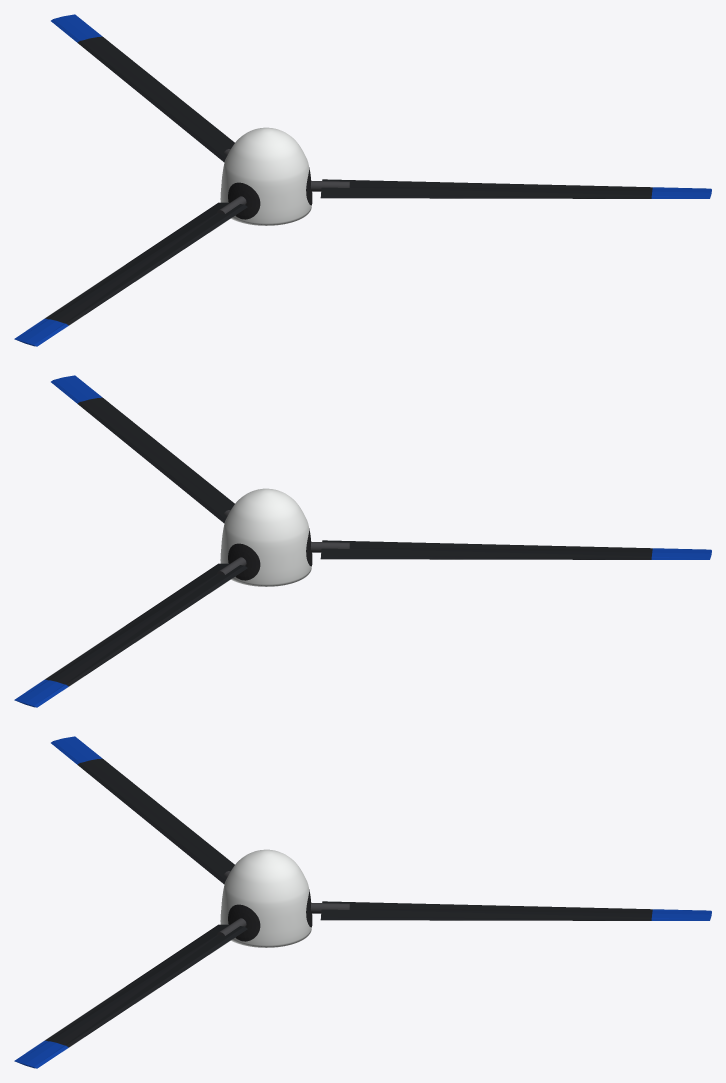
The model's file is rotor_4.glb.
3 renders of one model, top to bottom at view 1: azimuth 30°, elevation 25°; view 2: azimuth 150°, elevation 25°; view 3: azimuth 270°, elevation 25°, orthographic.
Visible parts, largest first — view 1: rotor_4; view 2: rotor_4; view 3: rotor_4.
Part boxes in pixels (box(x1,y1,x2,y2)): rotor_4: box(14, 14, 711, 346); rotor_4: box(14, 375, 711, 707); rotor_4: box(14, 736, 711, 1068).
Bounding box in the file's own units: 4.94 × 0.5303 × 4.41.
